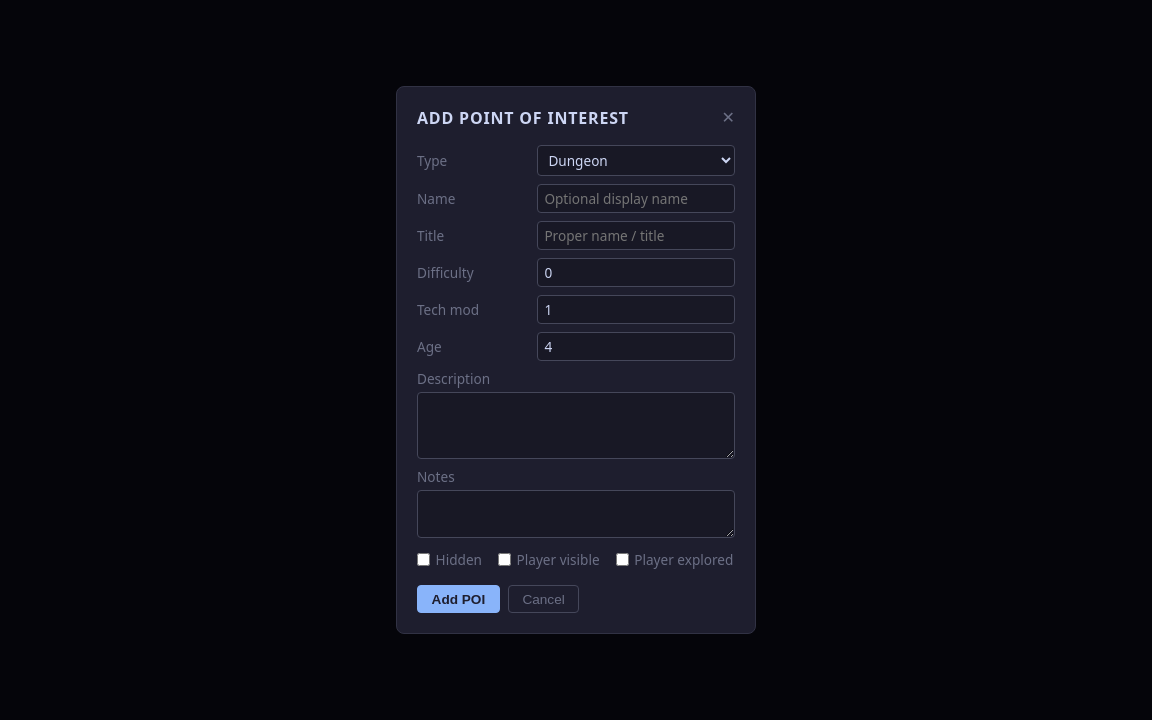
AddPOIModal conditional fields › shows Monster type for monster_base and no Difficulty
Select "Monster Base" in the dropdown at (636, 160), box [537,145,735,176]
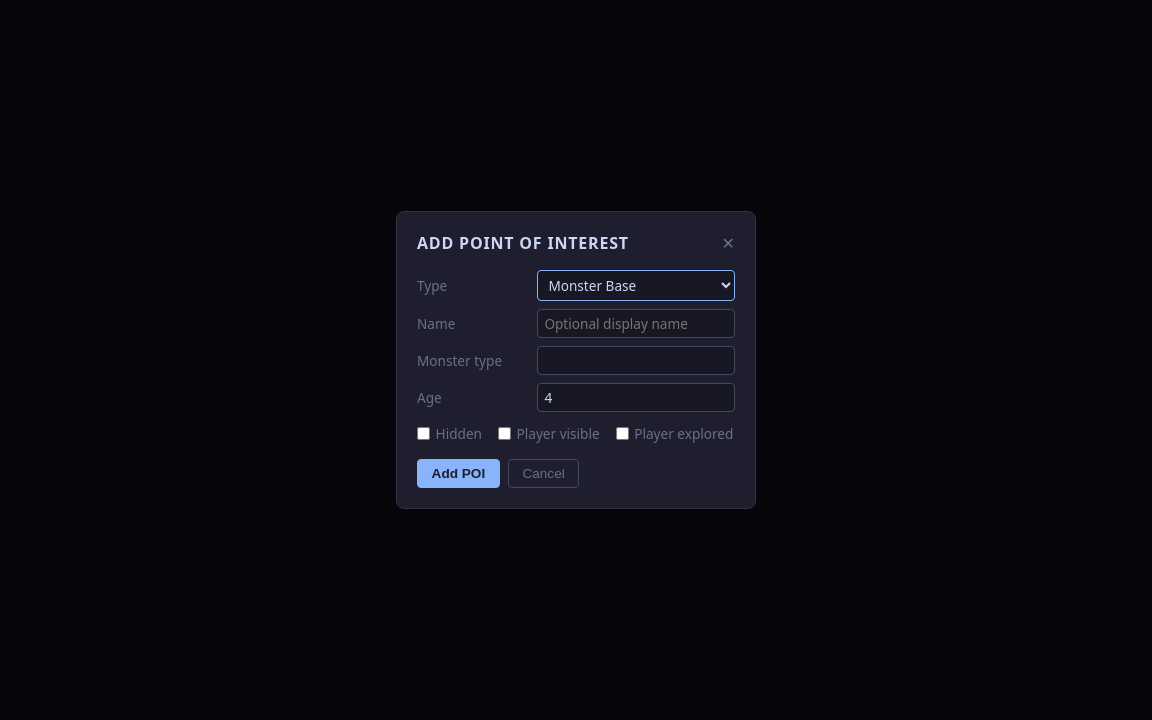
Expected: the text "Monster type" is shown, [417,351,502,370]
Expected: the text "Difficulty" is gone
